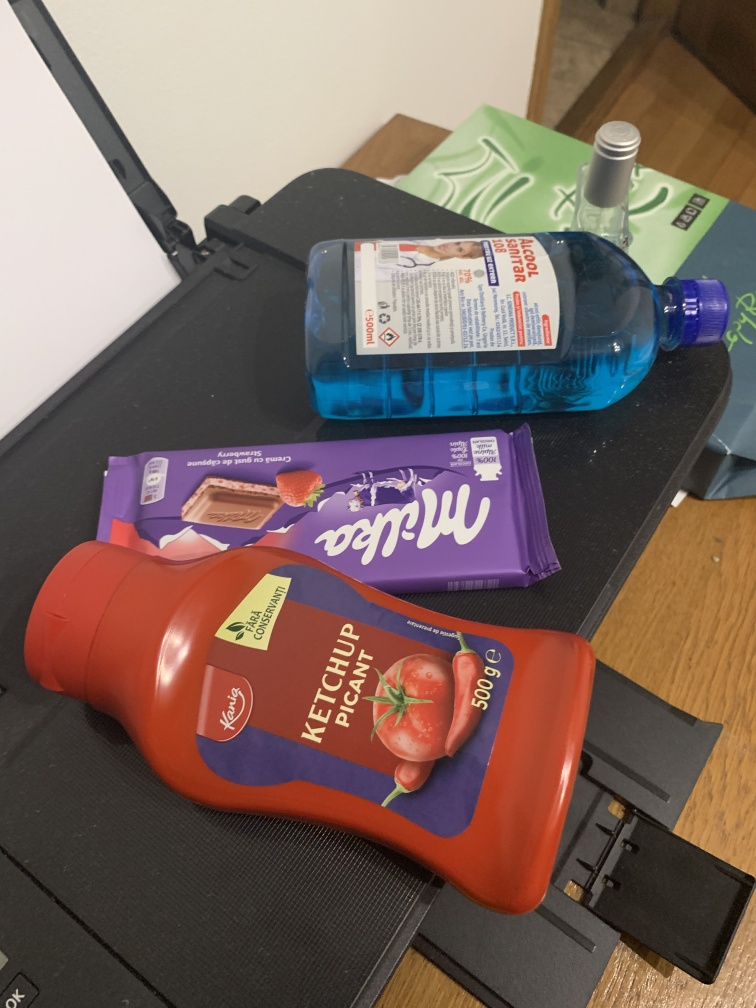ketchup: (19, 537, 602, 909)
milka: (91, 423, 582, 594)
